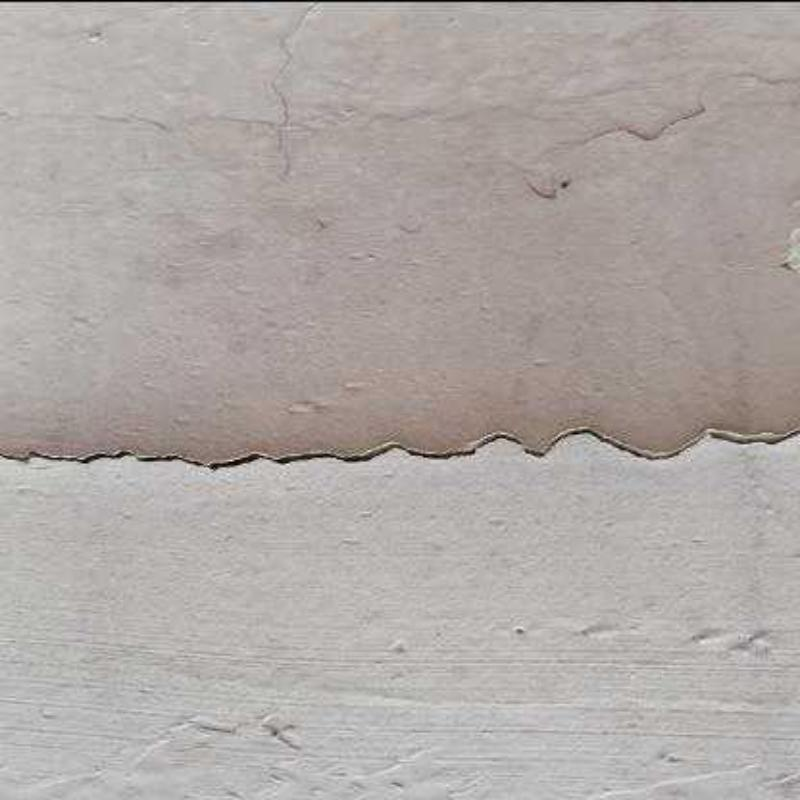pothole: (0, 427, 798, 472), (271, 2, 317, 185)
